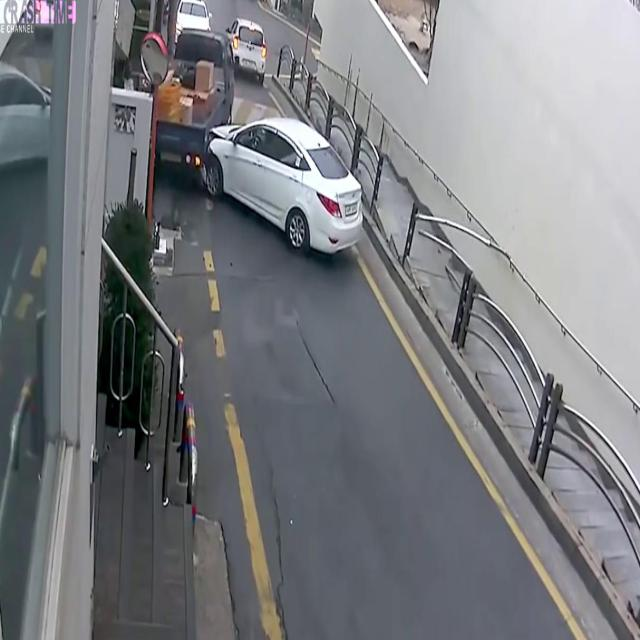accident: (143, 19, 366, 269)
